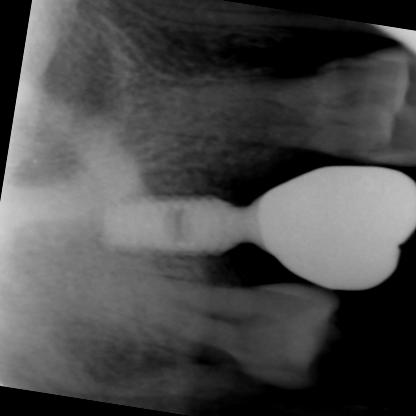Bicon: (100, 195, 226, 259)
